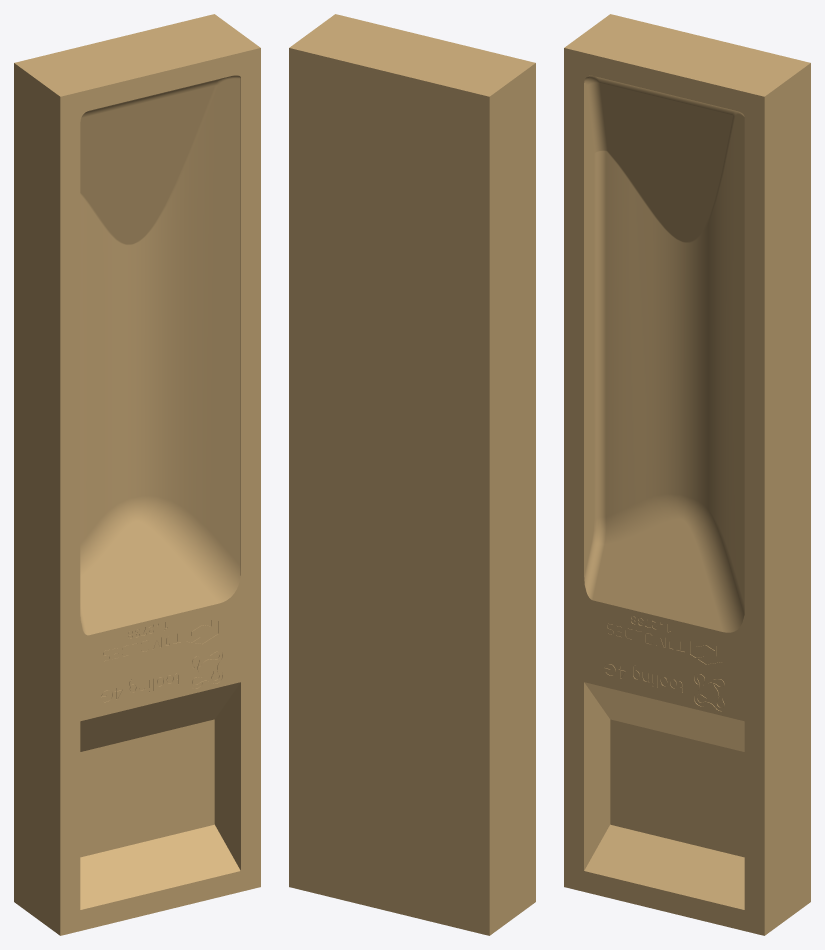
Rendered from polishing_mold.dae.
The picture shows the model from 3 angles, left to right: view 1: azimuth 30°, elevation 25°; view 2: azimuth 150°, elevation 25°; view 3: azimuth 330°, elevation 25°; orthographic projection.
Parts seen in each view (by area): view 1: Body1; view 2: Body1; view 3: Body1.
Part boxes in pixels (<box>): Body1: <box>14,14,260,935</box>; Body1: <box>289,14,535,935</box>; Body1: <box>564,14,810,935</box>.
Bounding box in the file's own units: 0.2 × 0.08 × 0.8.
